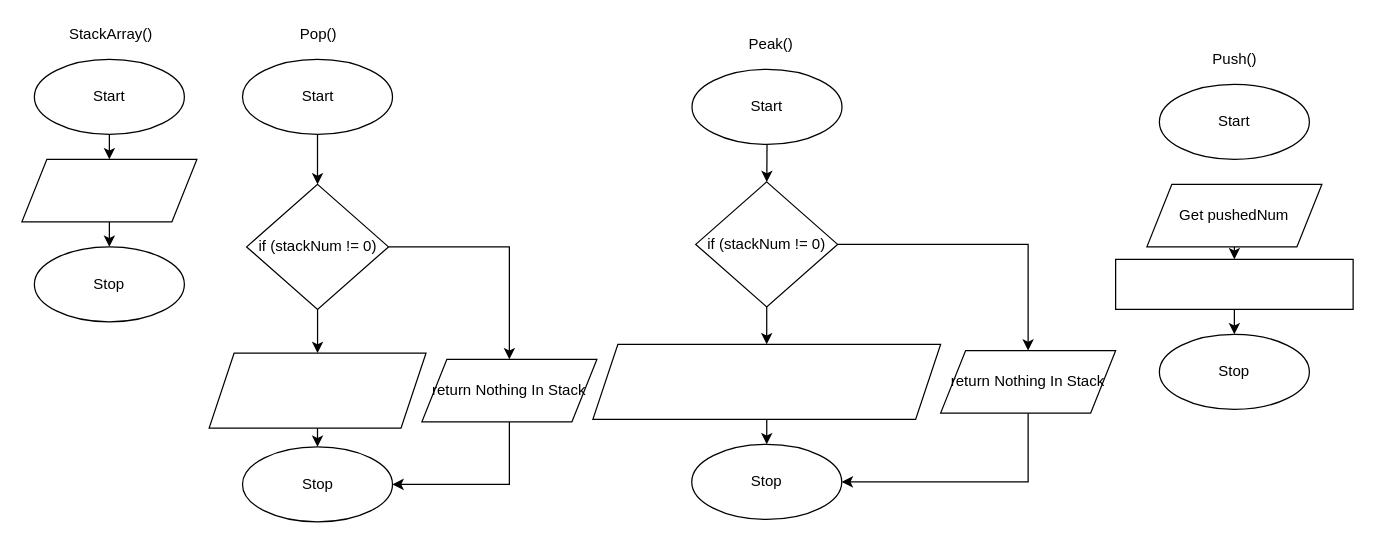
Image size: 1375x544. Some labels were removed from this diagram. The centre of each missing label's shape, as x and y in pixels:
"return stackClass" goes at (x=109, y=190).
"return this,stackClass[this.stackClass.length-1]" goes at (x=766, y=381).
"return this.stackClass.pop()" goes at (x=317, y=390).
"this.stackClass.push(pushedNum)" goes at (x=1233, y=283).
